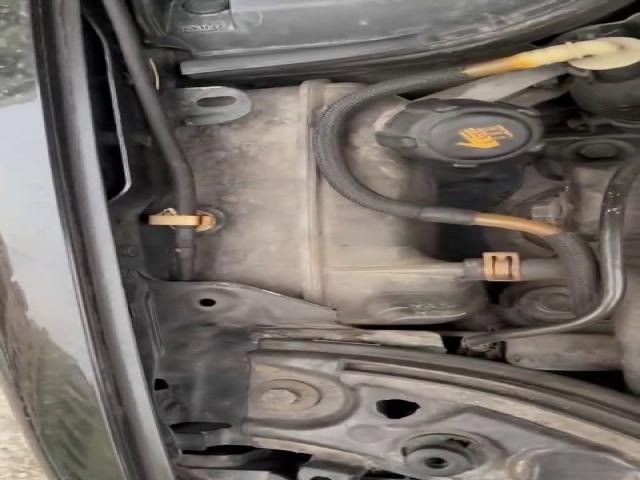antifreeze_tank: (177, 80, 484, 324), (347, 97, 541, 203)
